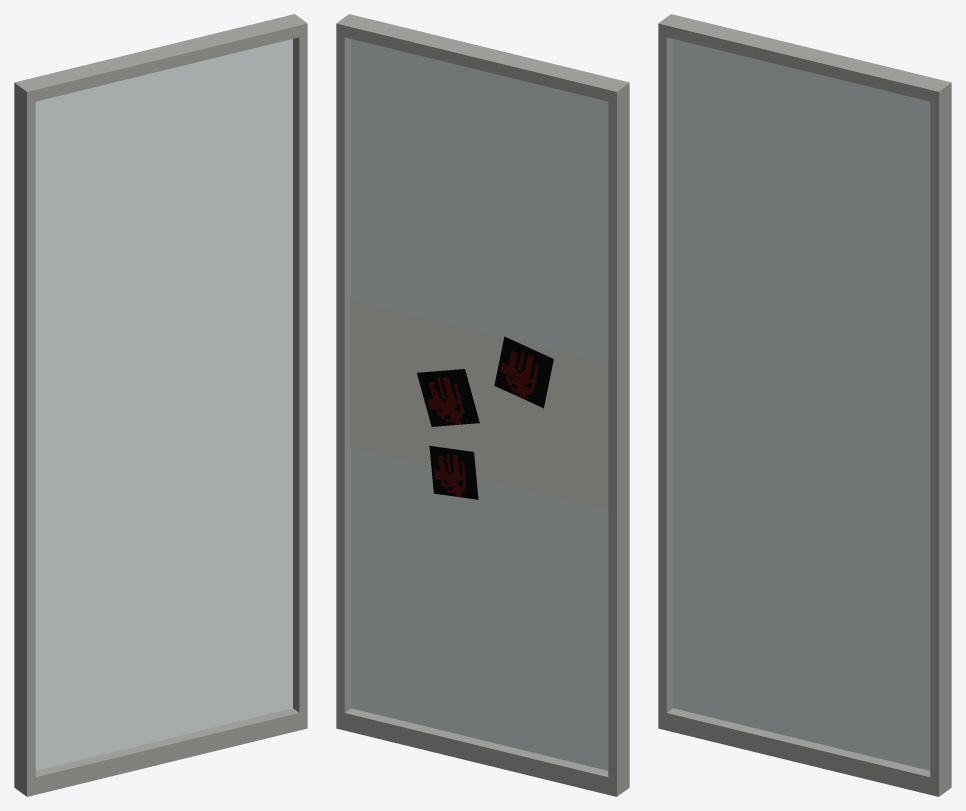
The model's file is glass_partition_bloody.fbx.
3 renders of one model, left to right at view 1: azimuth 30°, elevation 25°; view 2: azimuth 150°, elevation 25°; view 3: azimuth 330°, elevation 25°, orthographic.
Visible parts, largest first — view 1: glass_partition_bloody; view 2: glass_partition_bloody; view 3: glass_partition_bloody.
Part boxes in pixels (bbox=[...]): glass_partition_bloody: bbox=[14, 14, 307, 796]; glass_partition_bloody: bbox=[336, 14, 629, 796]; glass_partition_bloody: bbox=[658, 14, 951, 796].
Size of the model in its own units: 1 by 2.4 by 0.08.
